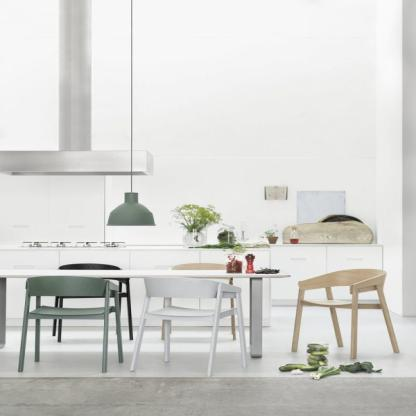chair: (286, 264, 401, 360), (25, 273, 123, 375), (137, 277, 238, 375), (157, 249, 243, 351), (54, 264, 134, 347)
